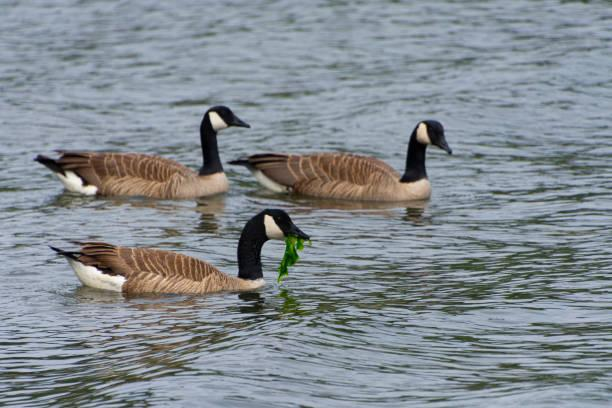Canadian-Goose: (51, 208, 310, 303), (234, 104, 453, 207), (33, 103, 251, 206)
